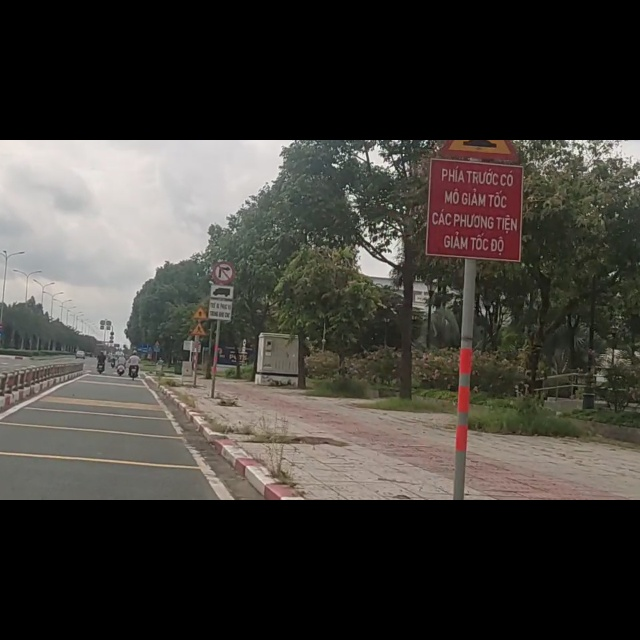bien_nguy_hiem: (208, 255, 233, 321), (212, 215, 234, 257), (190, 322, 207, 348), (192, 295, 209, 320)
